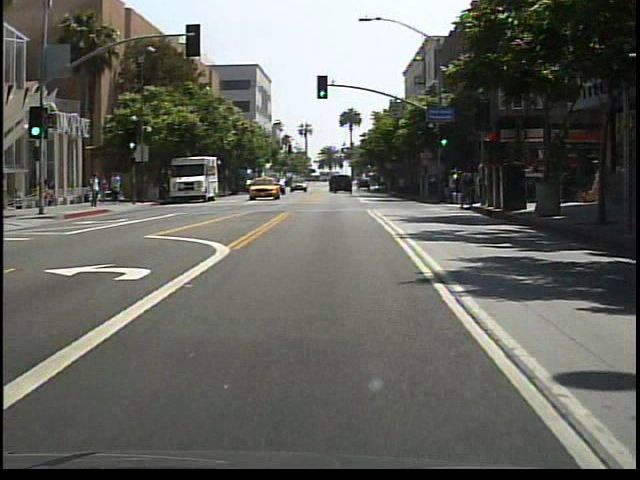person: (109, 171, 125, 205), (90, 172, 104, 210), (40, 180, 56, 210), (100, 175, 112, 204)
